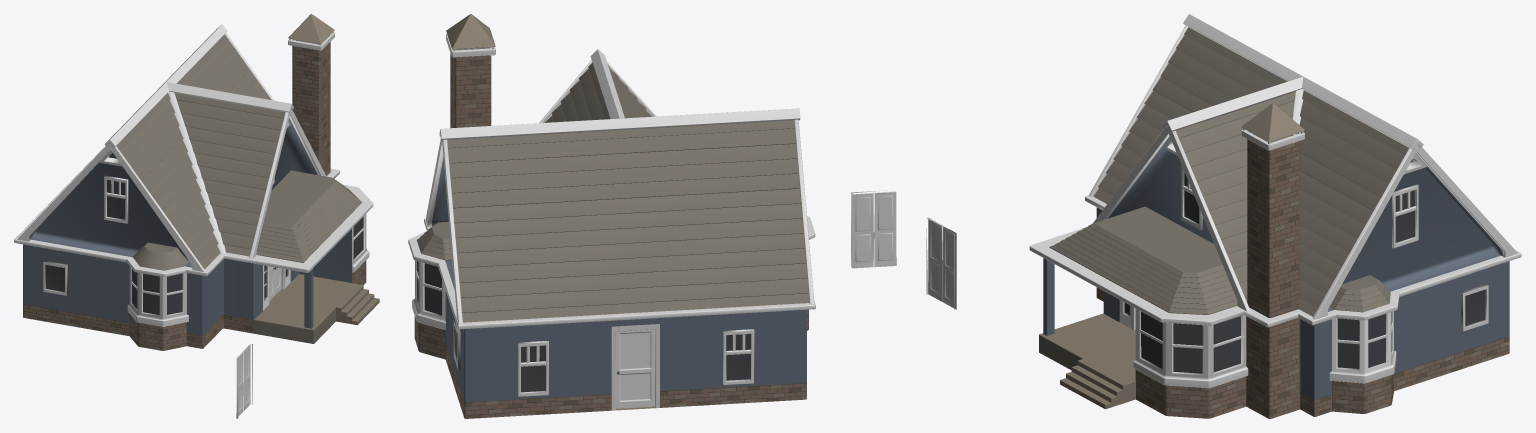
The model's file is house.dae.
The picture shows the model from 3 angles, left to right: view 1: azimuth 30°, elevation 25°; view 2: azimuth 150°, elevation 25°; view 3: azimuth 270°, elevation 25°; orthographic projection. The views are drawn at different scales.
Parts seen in each view (by area): view 1: node_id35, node_id35.002, node_id35.001; view 2: node_id35, node_id35.002; view 3: node_id35, node_id35.002.
Part boxes in pixels (bbox=[...]): node_id35: bbox=[14, 14, 379, 350]; node_id35.002: bbox=[236, 344, 252, 418]; node_id35.001: bbox=[269, 266, 283, 300]; node_id35: bbox=[408, 14, 815, 418]; node_id35.002: bbox=[851, 190, 896, 268]; node_id35: bbox=[1029, 14, 1521, 418]; node_id35.002: bbox=[926, 217, 956, 310].
Size of the model in its own units: 2.77 by 3.58 by 2.13.
Materials: 1 (1 with a texture image).
